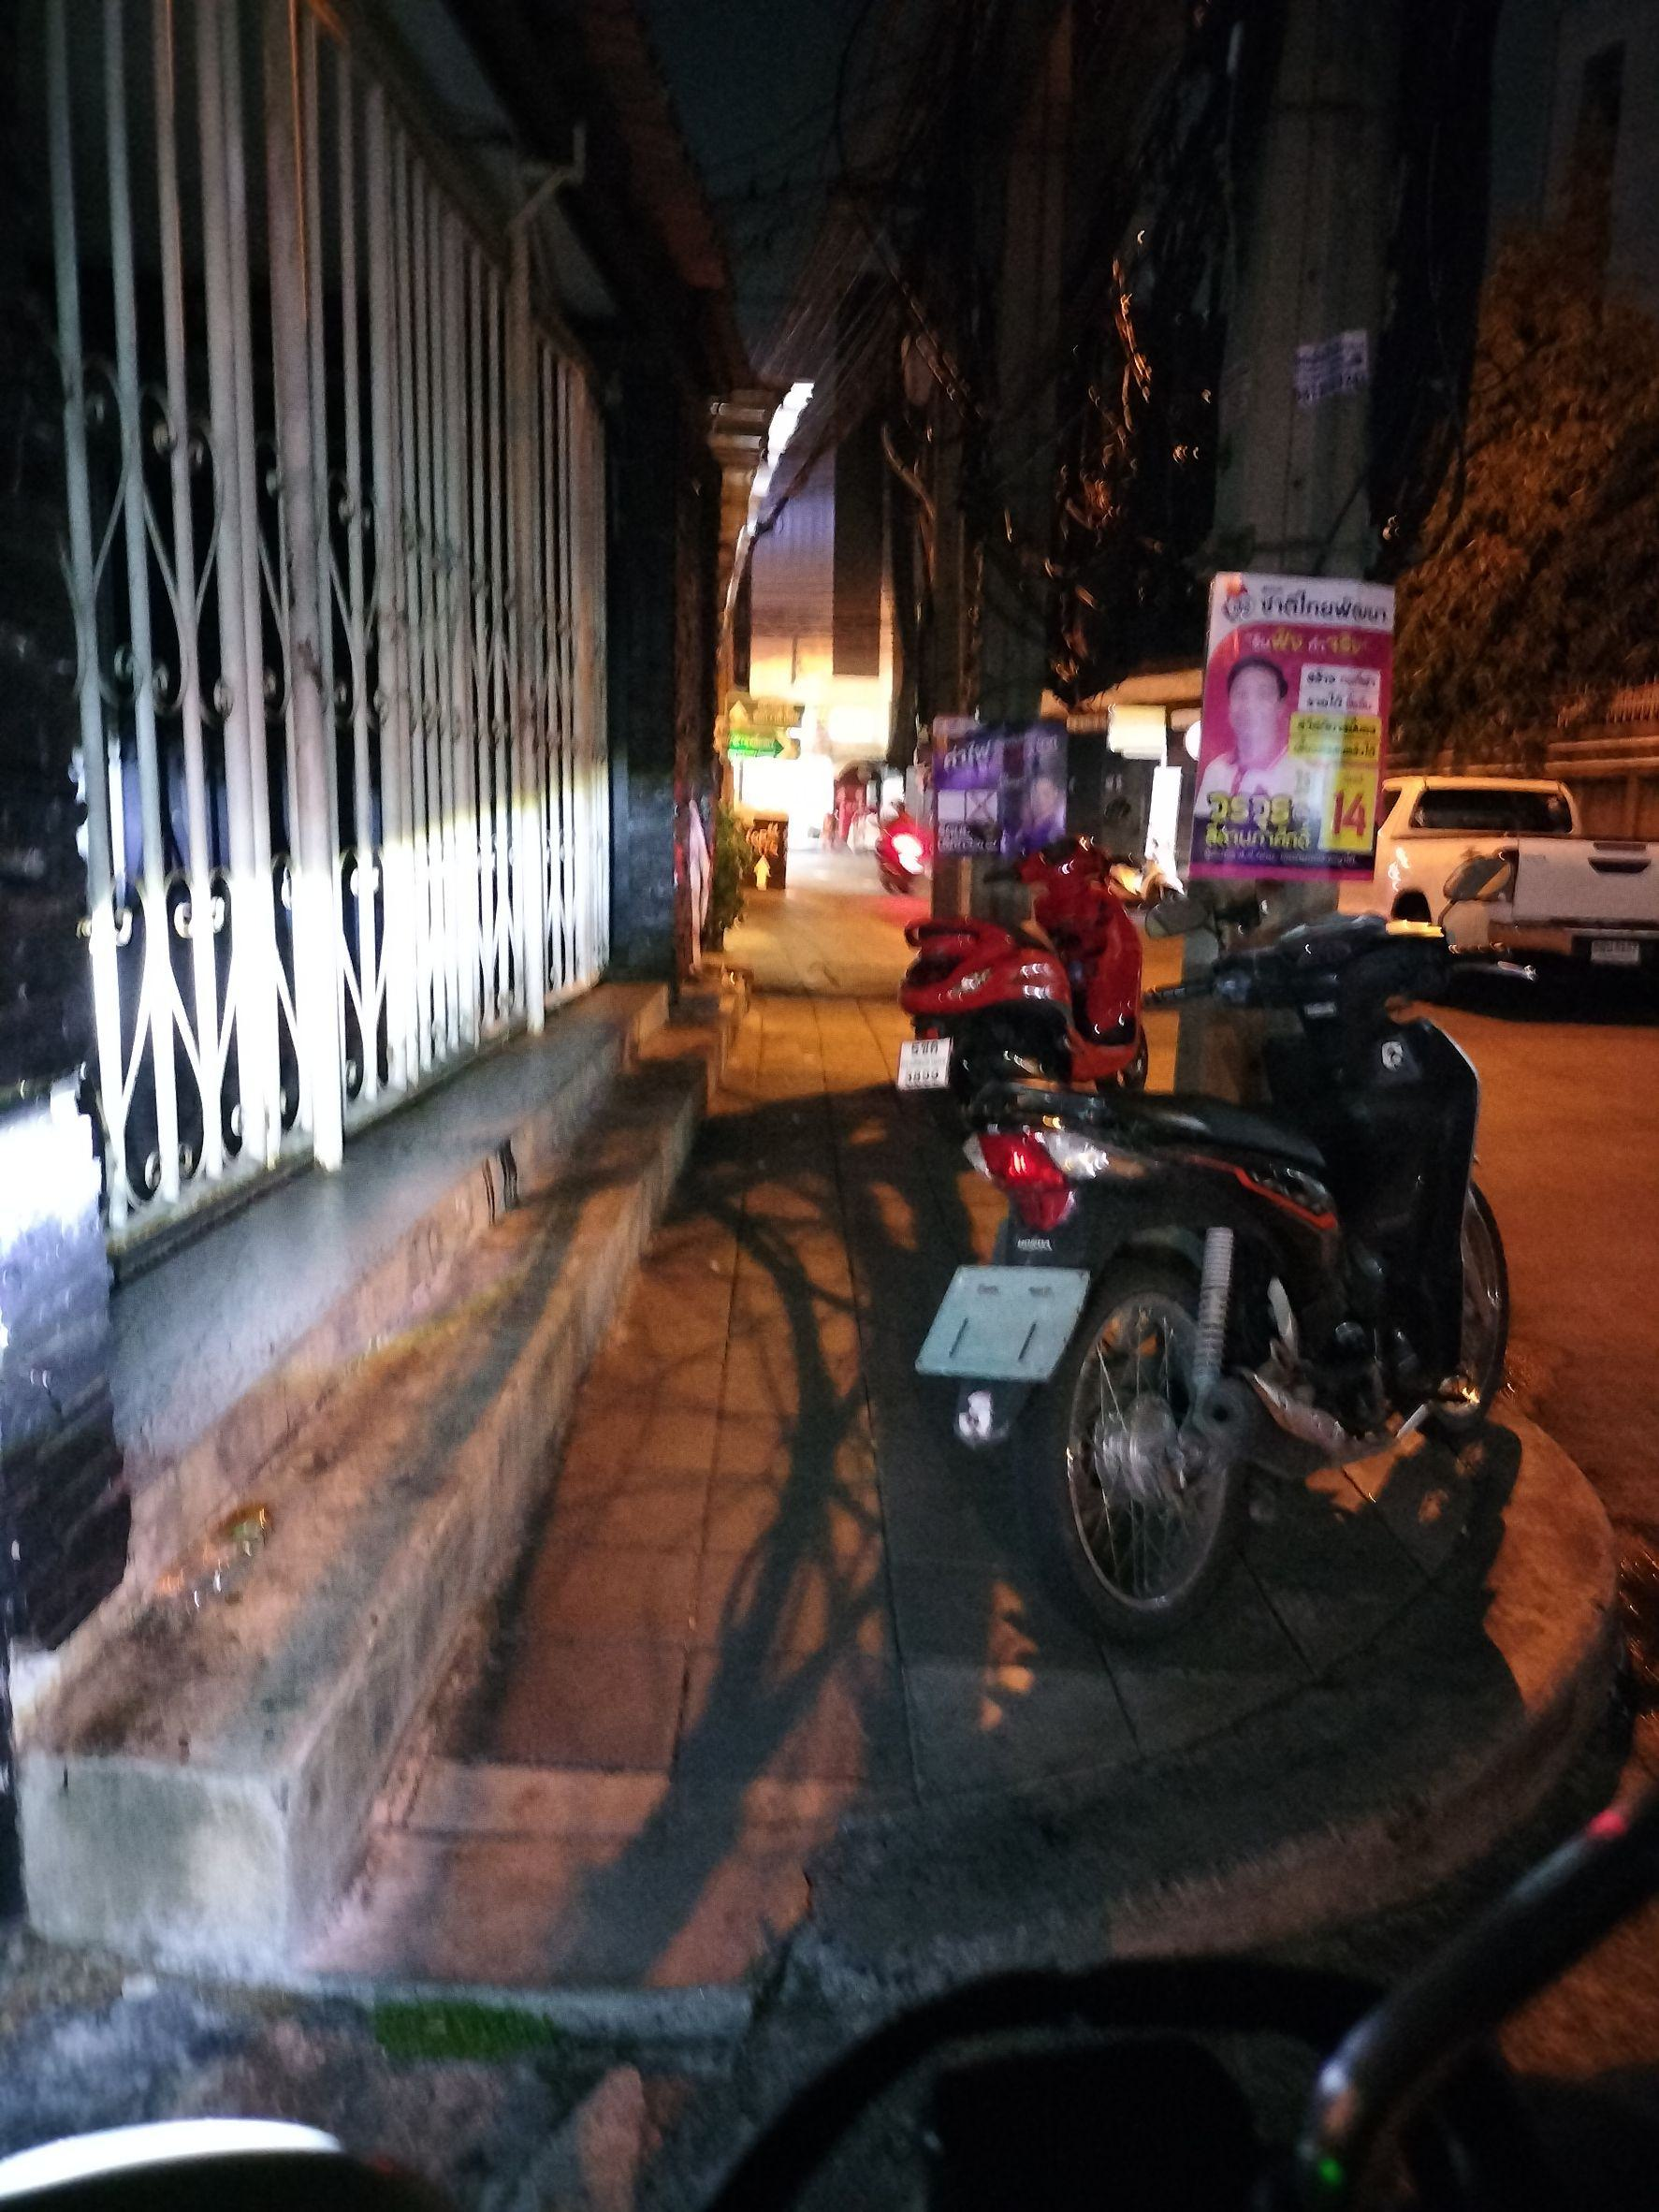Banner: (1208, 566, 1384, 873)
